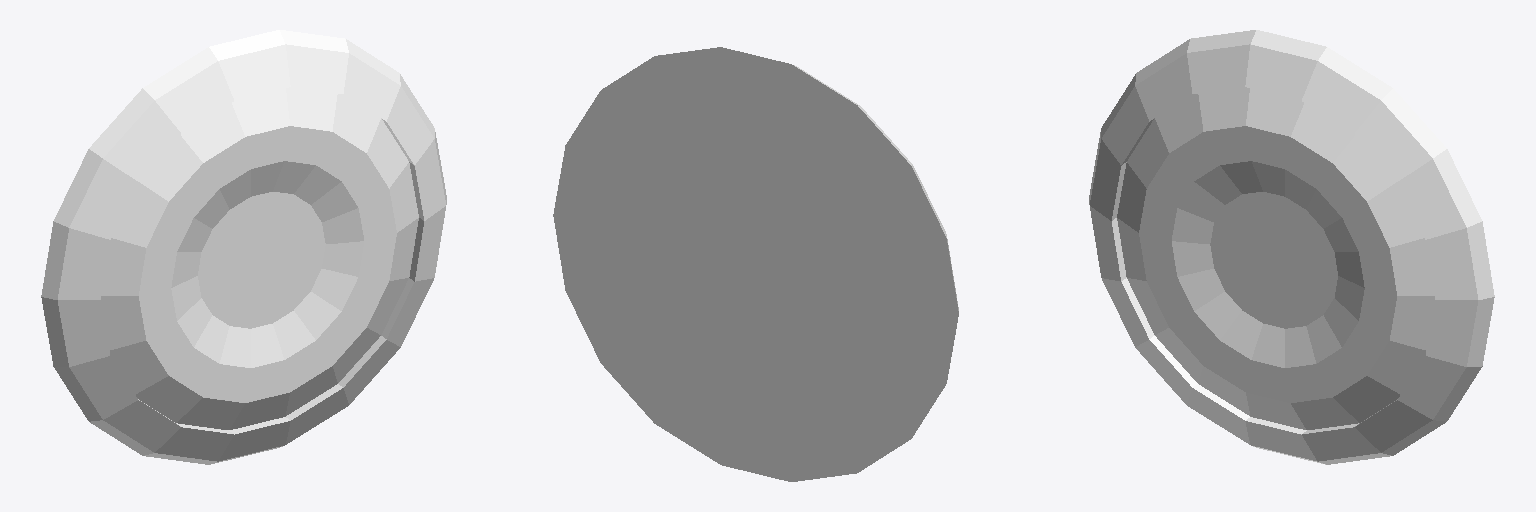
File: target.obj
3 renders of one model, left to right at view 1: azimuth 30°, elevation 25°; view 2: azimuth 150°, elevation 25°; view 3: azimuth 330°, elevation 25°, orthographic.
Parts seen in each view (by area): view 1: Cylinder001; view 2: Cylinder001; view 3: Cylinder001.
Boxes of the visible parts, x1=… form: Cylinder001: x1=41, y1=30, x2=446, y2=464; Cylinder001: x1=553, y1=47, x2=958, y2=481; Cylinder001: x1=1089, y1=30, x2=1494, y2=464.
Size of the model in its own units: 59.89 by 58.98 by 6.06.